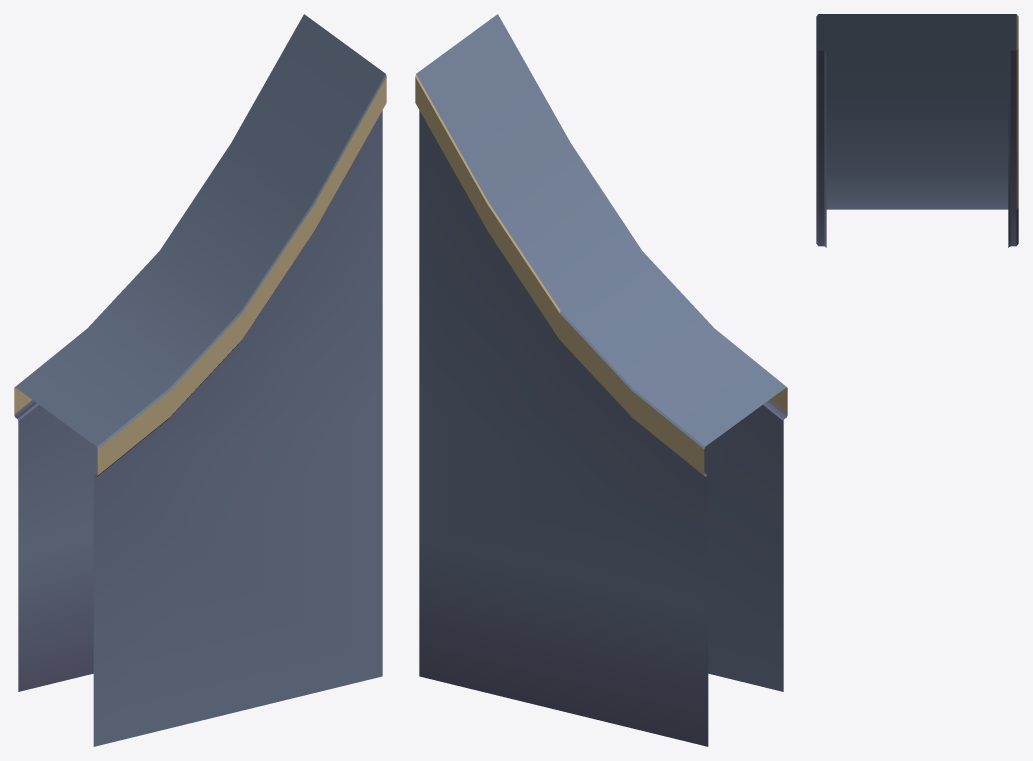
The model's file is BoatFence_slope_upwards.fbx.
The picture shows the model from 3 angles, left to right: view 1: azimuth 30°, elevation 25°; view 2: azimuth 150°, elevation 25°; view 3: azimuth 270°, elevation 25°; orthographic projection. The views are drawn at different scales.
Parts seen in each view (by area): view 1: Board_fence down; view 2: Board_fence down; view 3: Board_fence down.
Boxes of the visible parts, bbox=[...] form: Board_fence down: bbox=[14, 14, 386, 746]; Board_fence down: bbox=[415, 14, 787, 746]; Board_fence down: bbox=[816, 14, 1018, 247].
Bounding box in the file's own units: 200 × 400 × 100.
